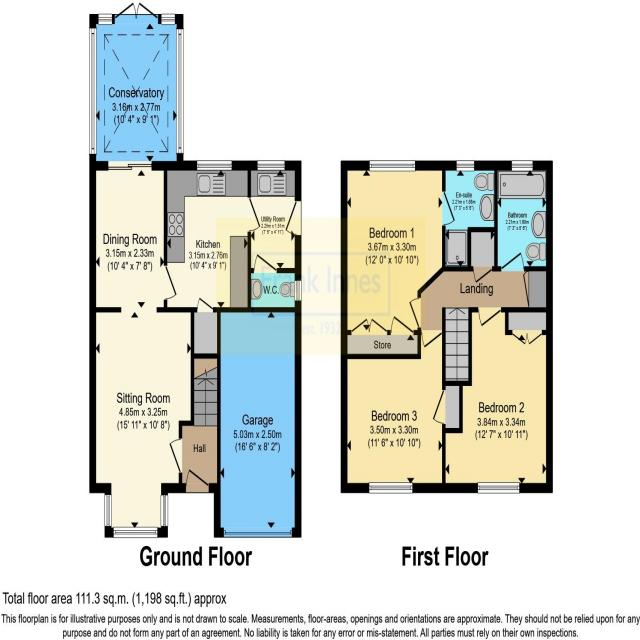DOOR: (477, 307, 507, 330), (163, 260, 179, 303), (498, 248, 526, 272), (285, 199, 302, 238), (186, 466, 210, 493), (431, 384, 446, 427), (247, 193, 262, 235), (442, 185, 456, 230), (421, 327, 446, 351), (167, 436, 183, 473), (253, 251, 277, 274), (408, 295, 422, 331), (472, 266, 494, 285), (196, 295, 215, 313)
ROOM: (89, 153, 194, 538), (341, 160, 458, 360), (428, 307, 553, 493), (341, 328, 446, 493), (164, 160, 265, 312)
WINDOW: (367, 479, 414, 498), (113, 524, 159, 541), (369, 158, 417, 173), (196, 158, 233, 173), (256, 158, 287, 173), (103, 493, 114, 528), (160, 493, 169, 529), (455, 158, 476, 173), (511, 159, 534, 172), (293, 279, 303, 303)
